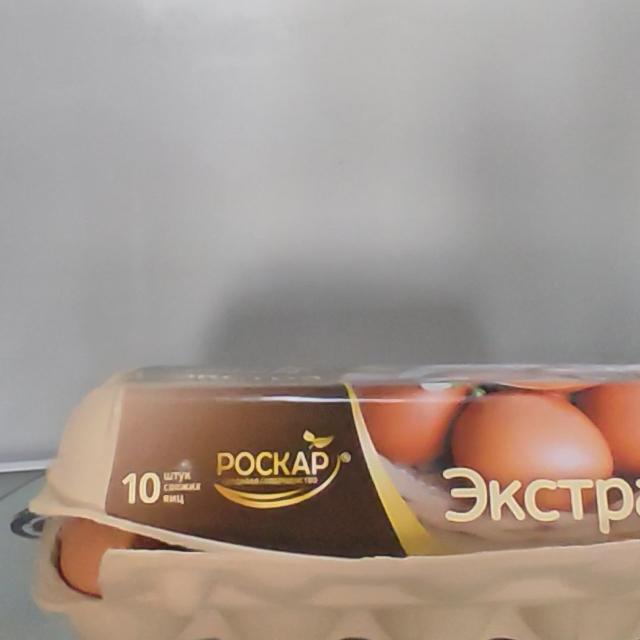egg: (35, 359, 640, 640)
